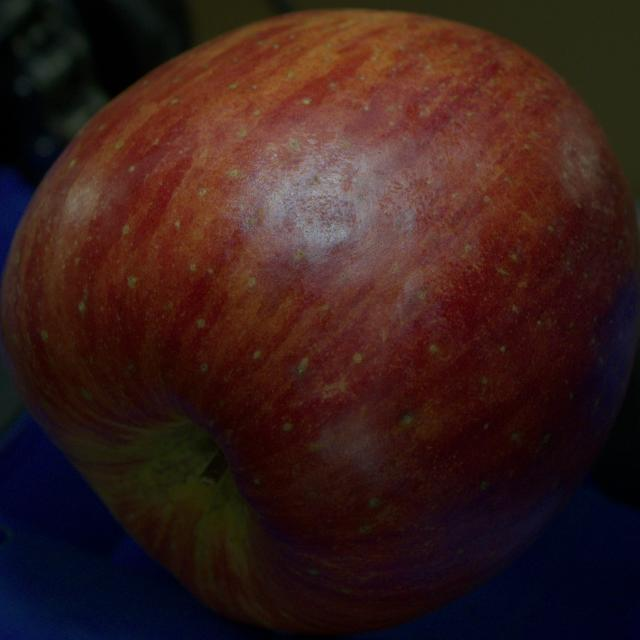apple: (0, 10, 639, 634)
